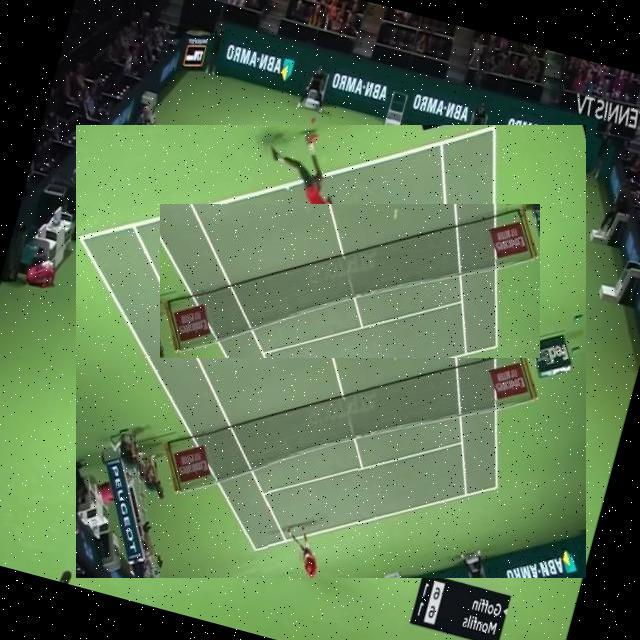court: (76, 125, 586, 578)
net: (160, 204, 540, 358)
player: (268, 444, 358, 574)
